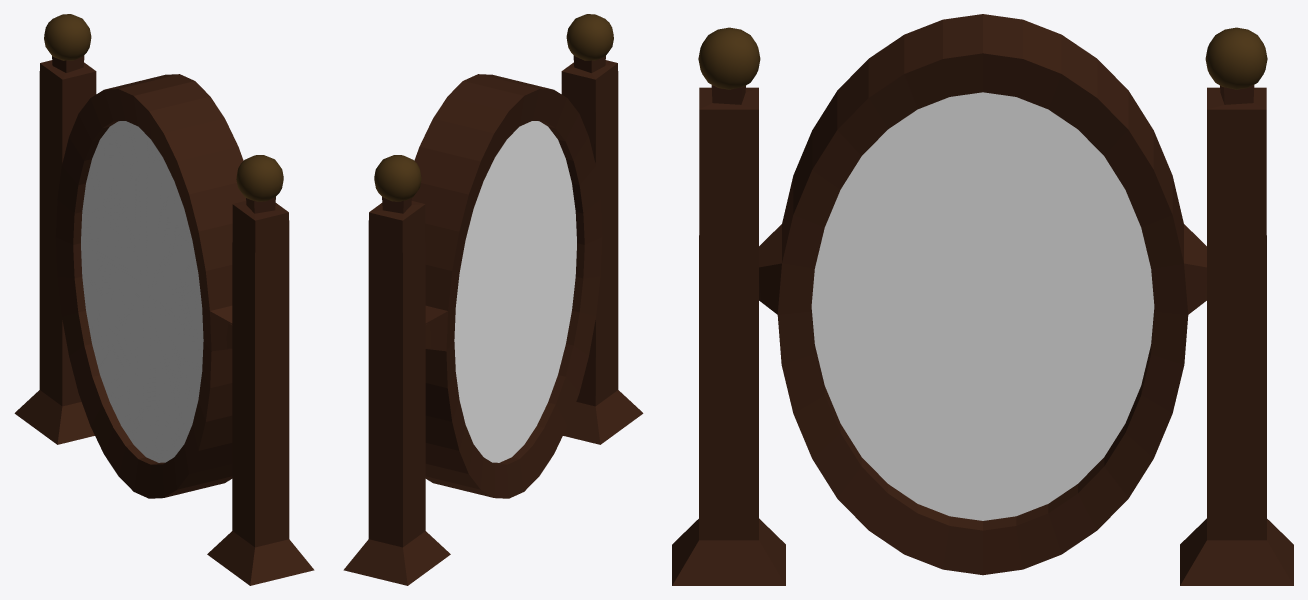
The picture shows the model from 3 angles, left to right: view 1: azimuth 30°, elevation 25°; view 2: azimuth 150°, elevation 25°; view 3: azimuth 270°, elevation 25°; orthographic projection. The views are drawn at different scales.
Parts seen in each view (by area): view 1: 外框, 平面, 立方体; view 2: 外框, 平面, 立方体; view 3: 外框, 平面, 立方体.
Part boxes in pixels (x1=…): 外框: x1=14, y1=55, x2=314, y2=585; 平面: x1=81, y1=121, x2=203, y2=462; 立方体: x1=44, y1=14, x2=283, y2=201; 外框: x1=343, y1=55, x2=643, y2=585; 平面: x1=454, y1=121, x2=576, y2=462; 立方体: x1=374, y1=14, x2=613, y2=201; 外框: x1=672, y1=14, x2=1293, y2=585; 平面: x1=811, y1=92, x2=1154, y2=520; 立方体: x1=698, y1=27, x2=1267, y2=89.
Bounding box in the file's own units: 43.38 × 260 × 275.
